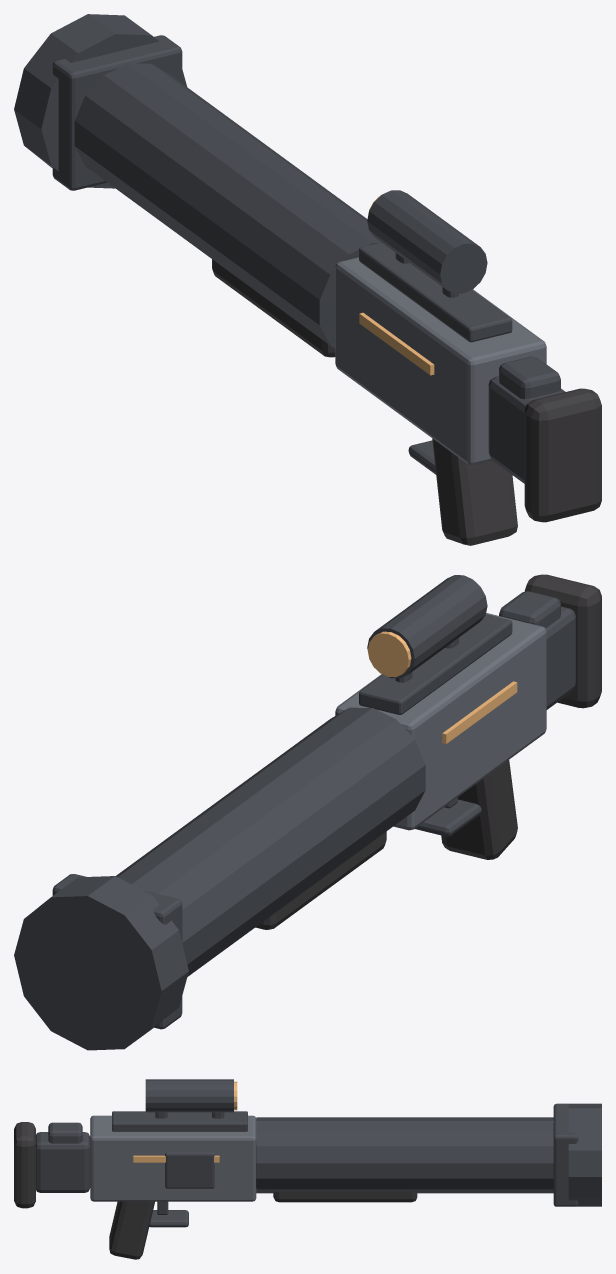
File: WPN_RocketLauncher.fbx
3 views of the same model, one above another, from view 1: azimuth 30°, elevation 25°; view 2: azimuth 150°, elevation 25°; view 3: azimuth 270°, elevation 25° (orthographic). The views are drawn at different scales.
Visible parts, largest first — view 1: WPN_RocketLauncher; view 2: WPN_RocketLauncher; view 3: WPN_RocketLauncher.
Boxes of the visible parts, x1,y1,x2,y2 form: WPN_RocketLauncher: (14, 14, 601, 545); WPN_RocketLauncher: (14, 574, 601, 1050); WPN_RocketLauncher: (14, 1079, 601, 1259).
Bounding box in the file's own units: 0.187 × 0.345 × 1.06.
